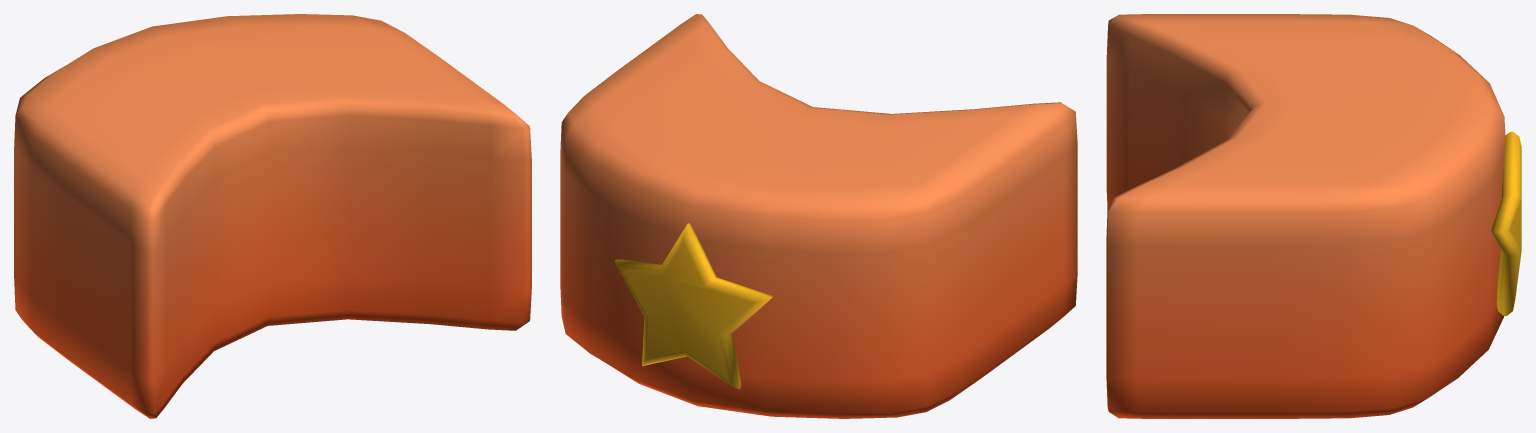
File: Upgrade-Table.fbx
3 views of the same model, side by side, from view 1: azimuth 30°, elevation 25°; view 2: azimuth 150°, elevation 25°; view 3: azimuth 270°, elevation 25° (orthographic). The views are drawn at different scales.
Visible parts, largest first — view 1: Upgrade-Table; view 2: Upgrade-Table; view 3: Upgrade-Table.
Part boxes in pixels (box(x1,y1,x2,y2)): Upgrade-Table: box(14, 14, 531, 418); Upgrade-Table: box(560, 14, 1077, 418); Upgrade-Table: box(1106, 14, 1521, 418).
Size of the model in its own units: 745 by 407 by 674.
